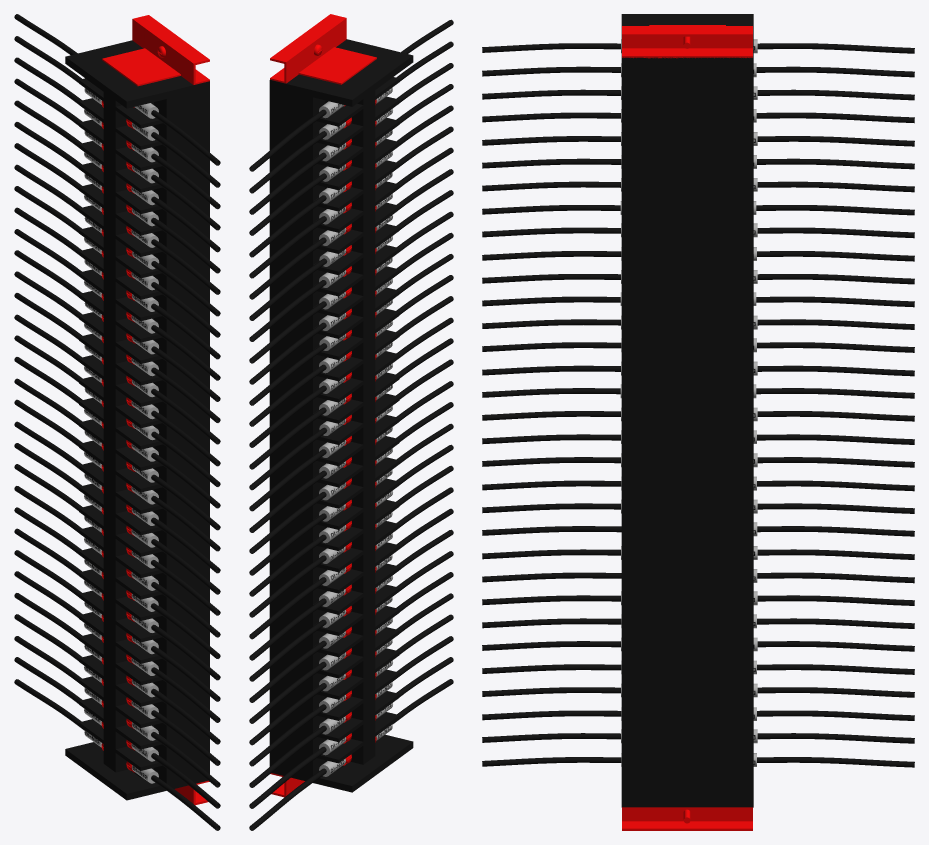
Rendered from plc6_1.FBX.
3 renders of one model, left to right at view 1: azimuth 30°, elevation 25°; view 2: azimuth 150°, elevation 25°; view 3: azimuth 270°, elevation 25°, orthographic. The views are drawn at different scales.
Visible parts, largest first — view 1: Box15527, Object5297, Object5300, Object5301, Object5299, Object5298; view 2: Box15527, Object5297, Object5298, Object5299, Object5301, Object5300; view 3: Box15527, Object5297, Object5298, Object5299.
Boxes of the visible parts, x1,y1,x2,y2 form: Box15527: (65,15,209,805); Object5297: (14,14,220,830); Object5300: (131,103,158,761); Object5301: (131,123,159,783); Object5299: (84,88,101,747); Object5298: (84,109,101,725); Box15527: (269,14,413,797); Object5297: (249,19,453,830); Object5298: (319,101,346,755); Object5299: (319,122,346,776); Object5301: (376,87,392,740); Object5300: (376,108,392,718); Box15527: (621,14,753,830); Object5297: (482,43,914,767); Object5298: (753,39,757,743); Object5299: (753,63,757,766).
Size of the model in its own units: 5.06 by 42.75 by 21.05.
